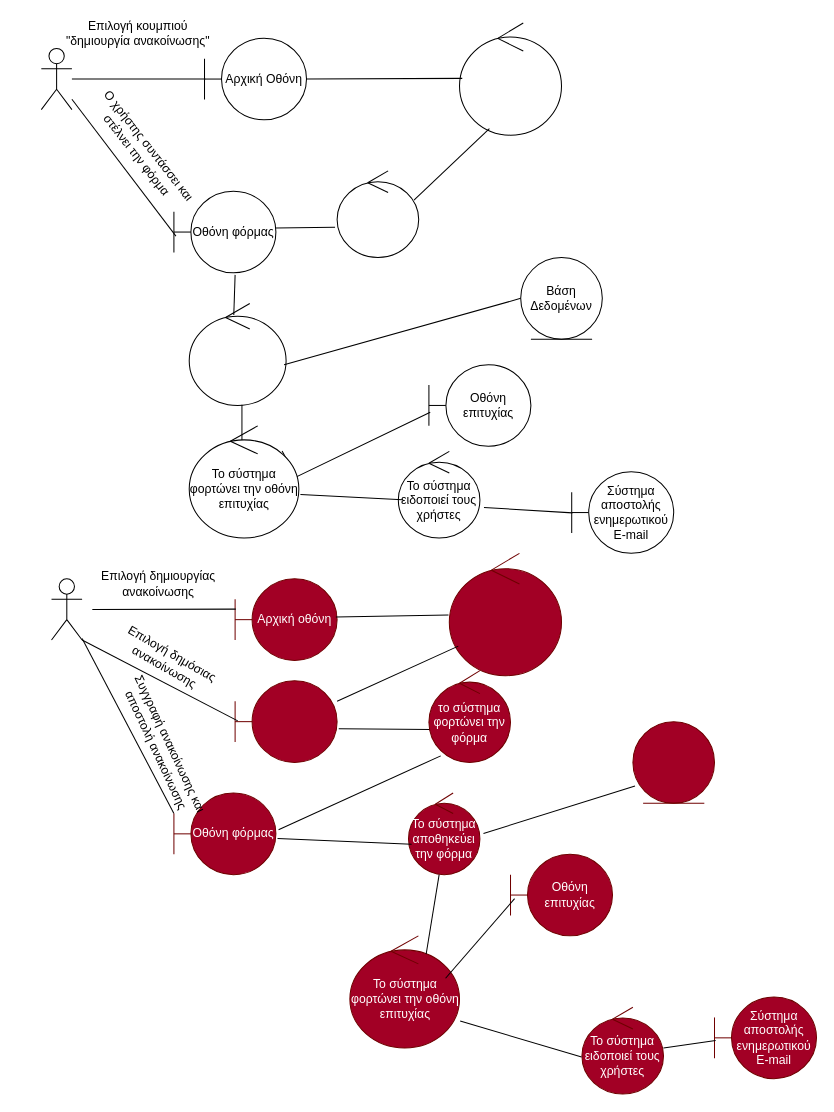
The diagram is 834 pixels wide and 1112 high, and some of its shapes have lost their labels. Here are the shapes that lost their labels. From the top down, the centre of each, then its label:
At point 56,78: "User/Manager".
At point 510,78: "Το σύστημα επιλέγει αυτόματα την ιδιωτική ανακοίνωση".
At point 377,214: "Το σύστημα εμφανίζει την φόρμα".
At point 237,353: "Το σύστημα αποθηκεύει την ανακοίνωση".
At point 66,609: "Manager".
At point 505,614: "το σύστημα δίνει την επιλογή δημόσια ή ιδιωτική ανακοίνωση".
At point 285,721: "Οθόνη δημόσιας ανακοίνωσης".
At point 673,762: "Βάση Δεδομέμων".
